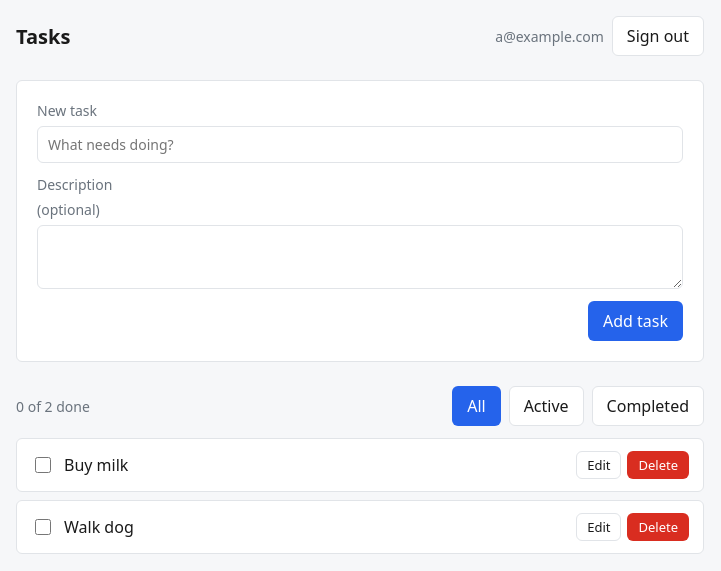
Test: TodosPage › deletes a todo and removes it from the list
Click the button "Delete" in the row of "Buy milk" at (658, 465), box top-left (628, 451), bottom-right (689, 479)
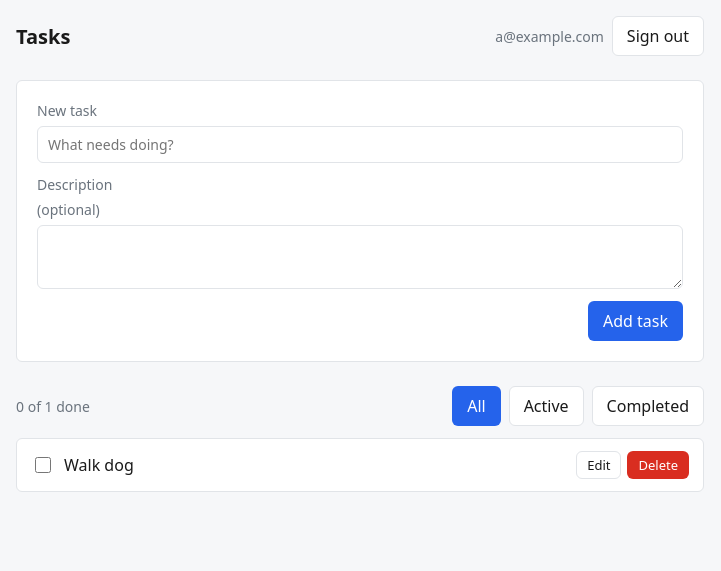
Expected: the text "Walk dog" is shown, top-left (64, 454), bottom-right (134, 476)
Result: the text "Buy milk" is gone
